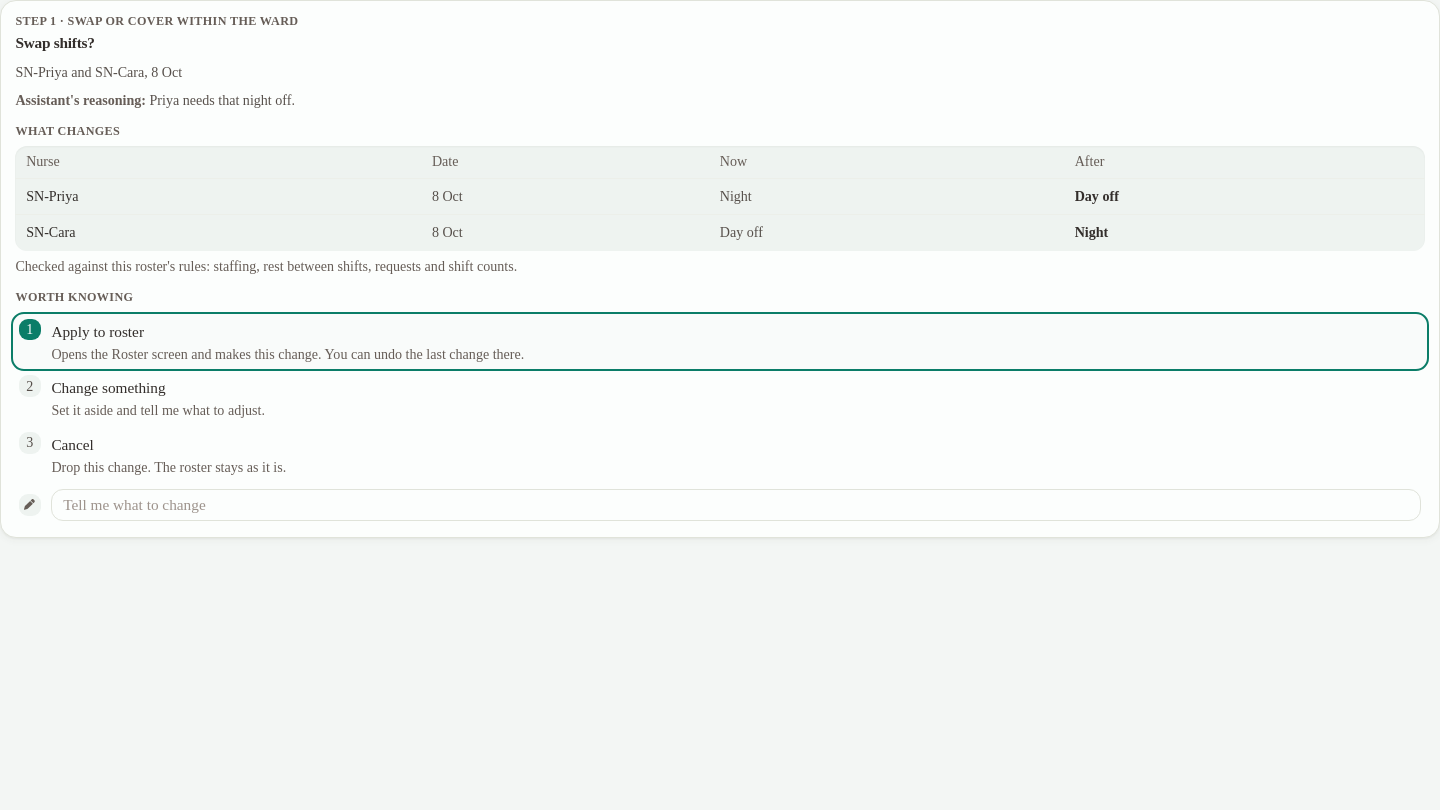
Test: RosterChangeCard › says why when the Roster screen refuses an unlinked change
Click the button with test id "roster-change-apply" at (98, 331), box [12,313,1428,370]
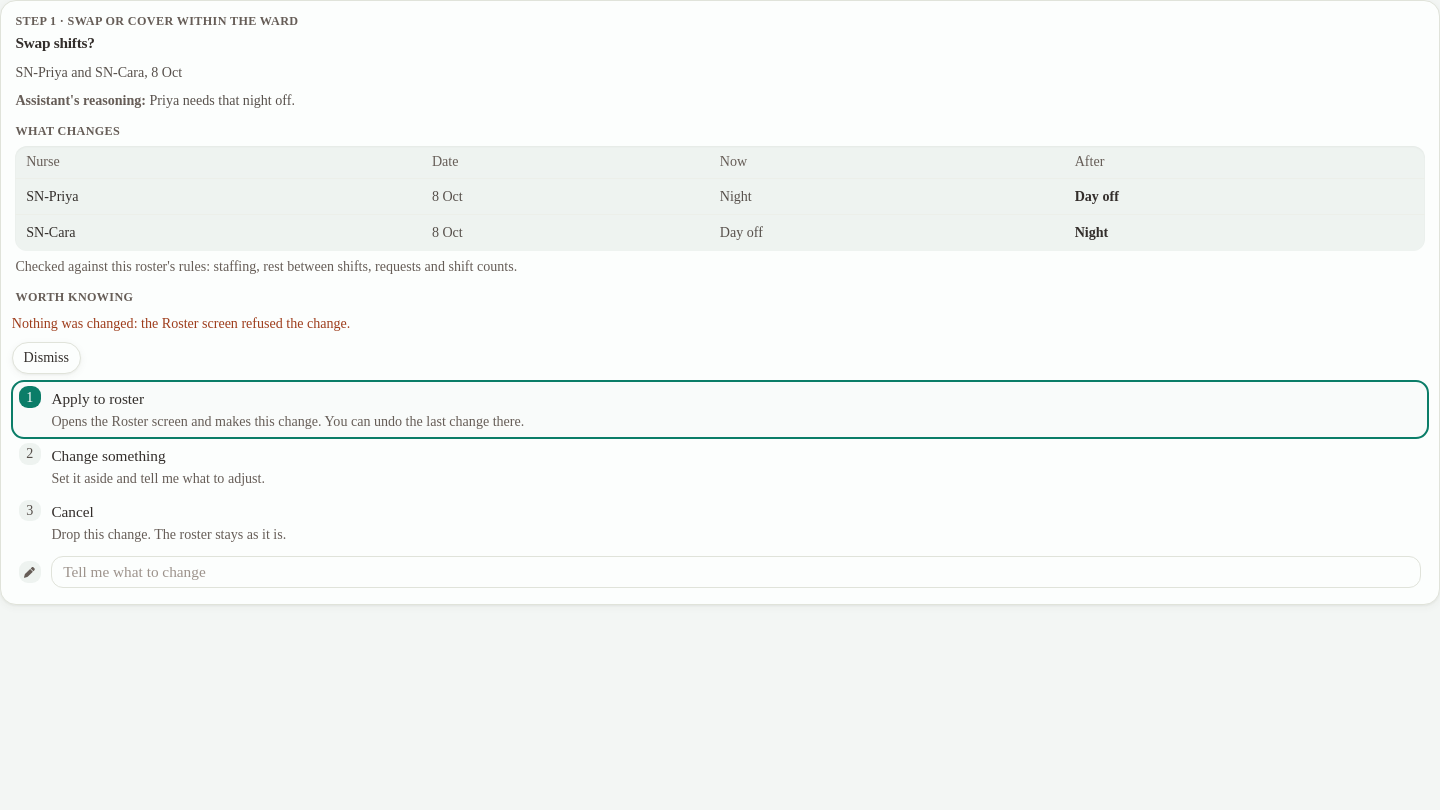
Expected: the text "Nothing was changed: the Roster screen refused the change." is shown, [12,313,350,334]
